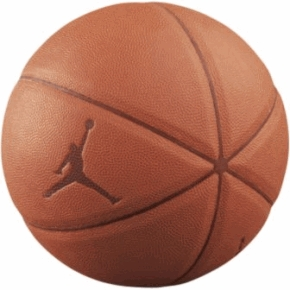basketball: (2, 3, 290, 289)
